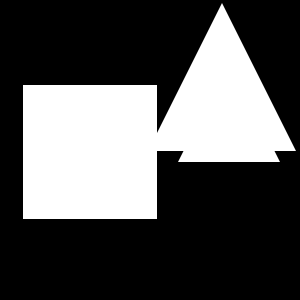circle: (23, 85, 157, 219)
triangle: (148, 3, 296, 151), (178, 60, 280, 162)
